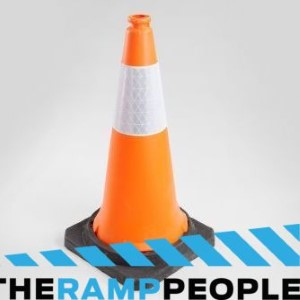traffic cone: (63, 13, 215, 292)
